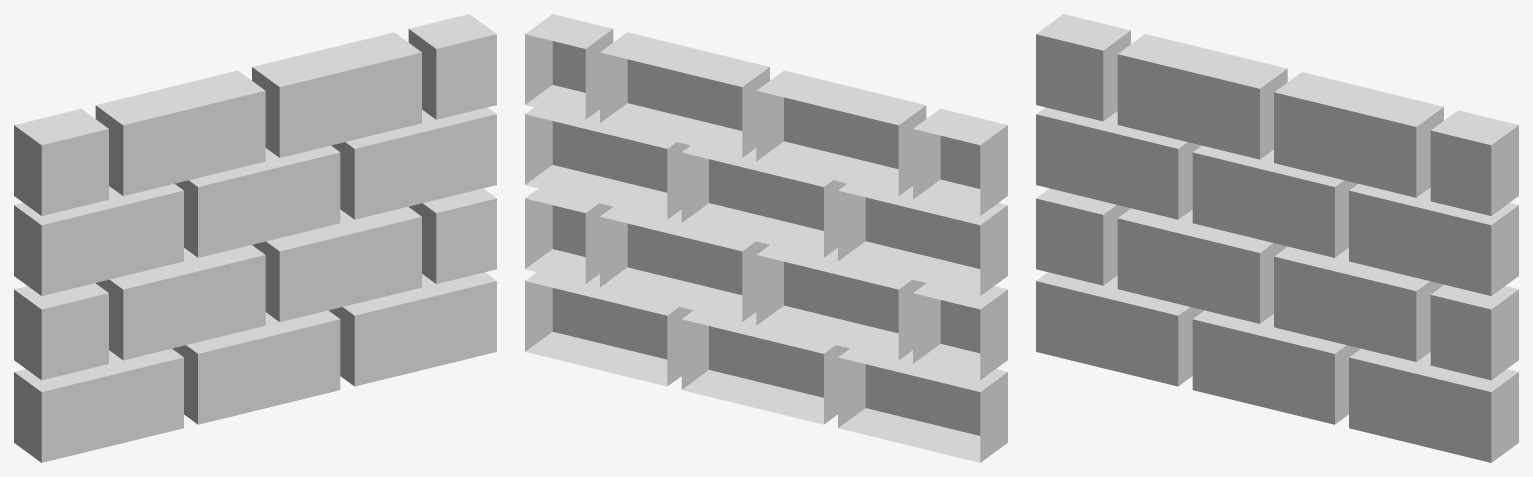
Rendered from Kerpichiki.fbx.
3 renders of one model, left to right at view 1: azimuth 30°, elevation 25°; view 2: azimuth 150°, elevation 25°; view 3: azimuth 330°, elevation 25°, orthographic.
Parts seen in each view (by area): view 1: Kerpichiki; view 2: Kerpichiki; view 3: Kerpichiki.
Boxes of the visible parts, x1,y1,x2,y2 form: Kerpichiki: [14, 14, 496, 462]; Kerpichiki: [525, 14, 1007, 462]; Kerpichiki: [1036, 14, 1518, 462].
Size of the model in its own units: 281 by 187 by 29.54.
